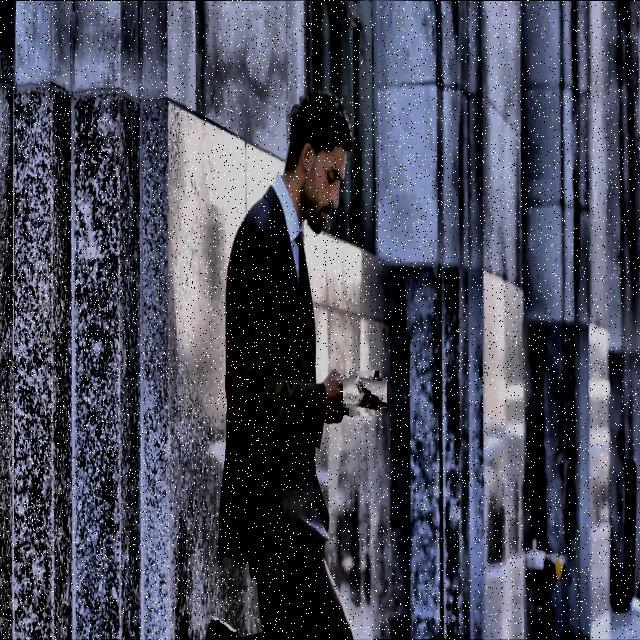Phone: (344, 373, 385, 414)
